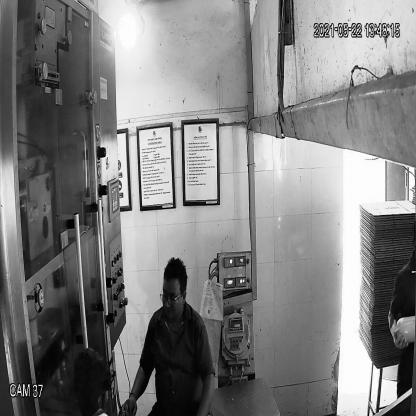goggles: (157, 288, 188, 307)
